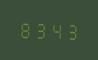eight: (18, 18, 32, 39)
four: (48, 19, 62, 40)
three: (33, 19, 47, 39), (63, 20, 77, 40)
